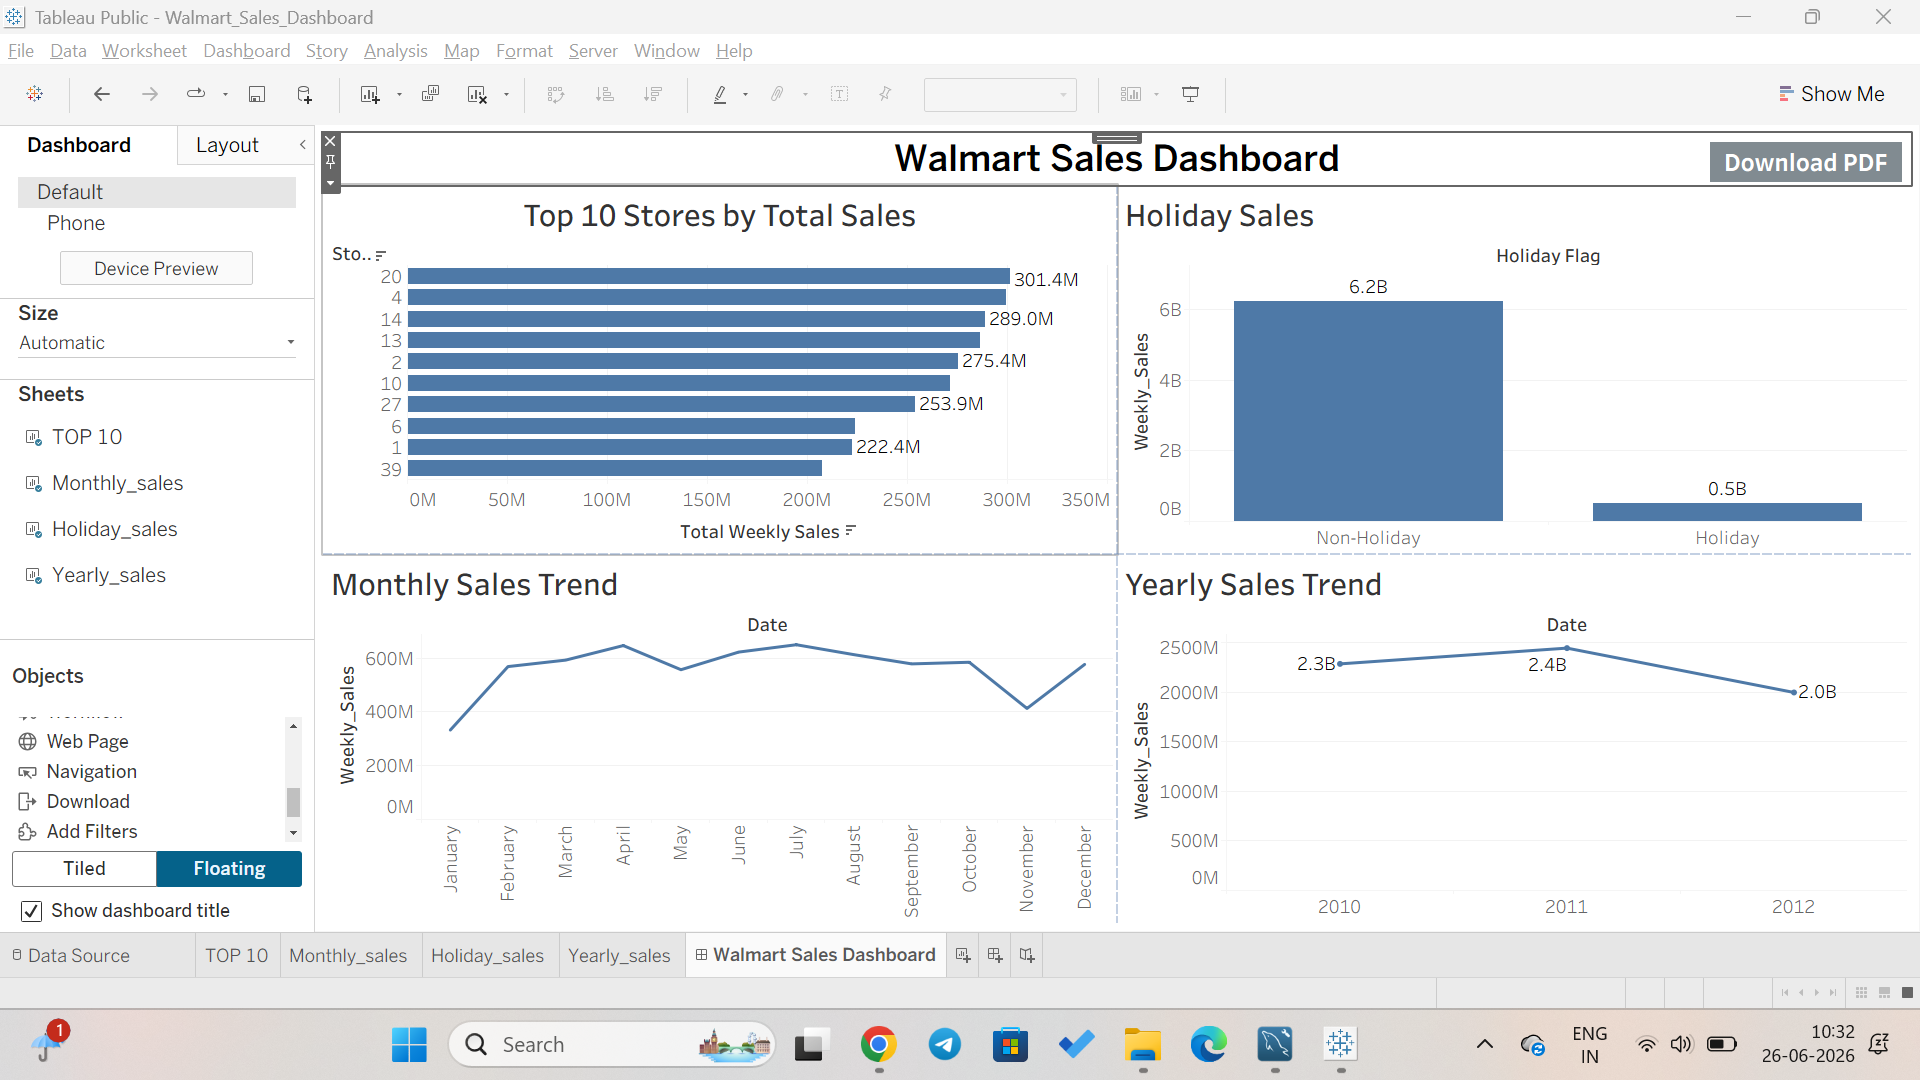

The page's visual inventory and layout, read from the dashboard file:
{"tool":"tableau","page":{"name":"Walmart Sales Dashboard","canvas":[1000,1000],"units":"permille","ordinal":0},"visuals":[{"type":"title","box":[5,9.9,990,64.5]},{"type":"dashboard-object","box":[869.7,21.1,119.7,49.6]},{"type":"worksheet","title":"TOP 10","mark":"Automatic","rows":["Store"],"cols":["Weekly_Sales"],"box":[5,74.5,495,457.8]},{"type":"worksheet","title":"Holiday_sales","mark":"Automatic","rows":["Weekly_Sales"],"cols":["Holiday_Flag"],"box":[500,74.5,495,457.8]},{"type":"worksheet","title":"Monthly_sales","mark":"Automatic","rows":["Weekly_Sales"],"cols":["Date"],"box":[5,532.3,495,457.8]},{"type":"worksheet","title":"Yearly_sales","mark":"Automatic","rows":["Weekly_Sales"],"cols":["Date"],"box":[500,532.3,495,457.8]}]}

Visuals, with their boxes on the dashboard's canvas, which has no fixed pixel size, in thousandths of its width and height (x1, y1, x2, y2). These are canvas units, not pixel positions in the 1920x1080 screenshot, which may show the page scaled, cropped or inside an application window:
title: (5,10,995,74)
dashboard-object: (870,21,989,71)
"TOP 10" worksheet: (5,74,500,532)
"Holiday_sales" worksheet: (500,74,995,532)
"Monthly_sales" worksheet: (5,532,500,990)
"Yearly_sales" worksheet: (500,532,995,990)
